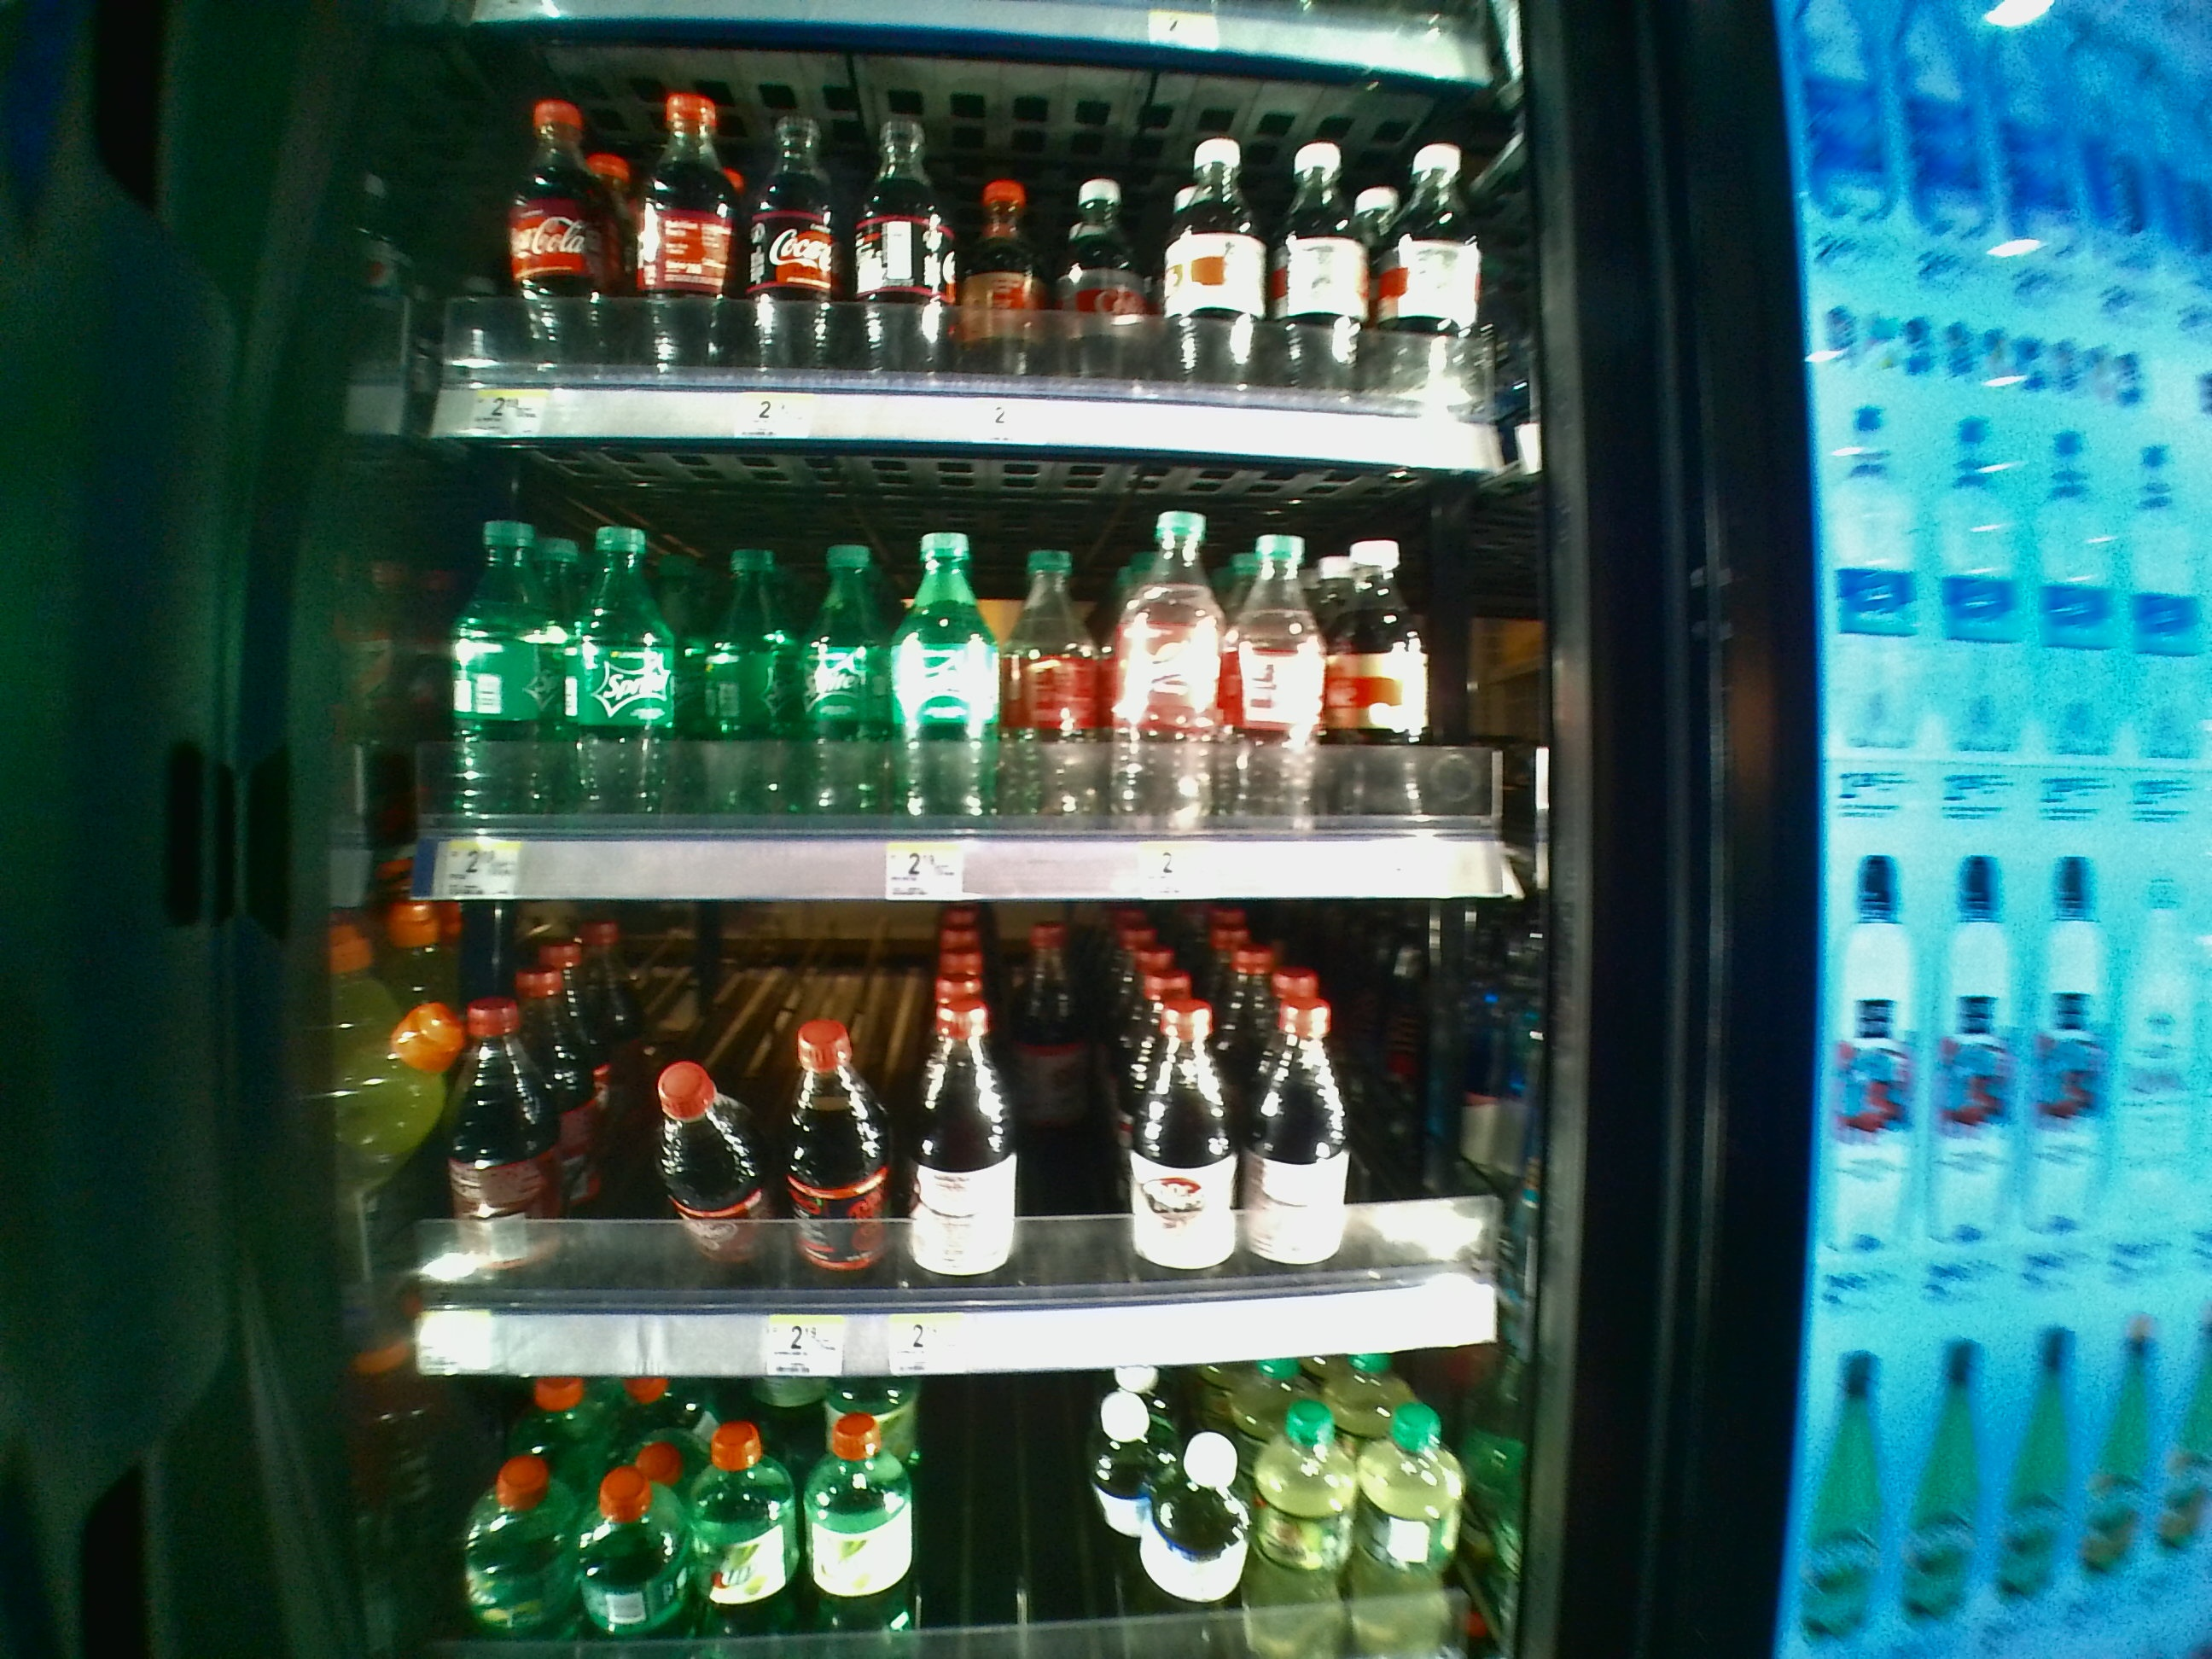shelf: (409, 917, 1538, 1378), (404, 446, 1531, 904)
